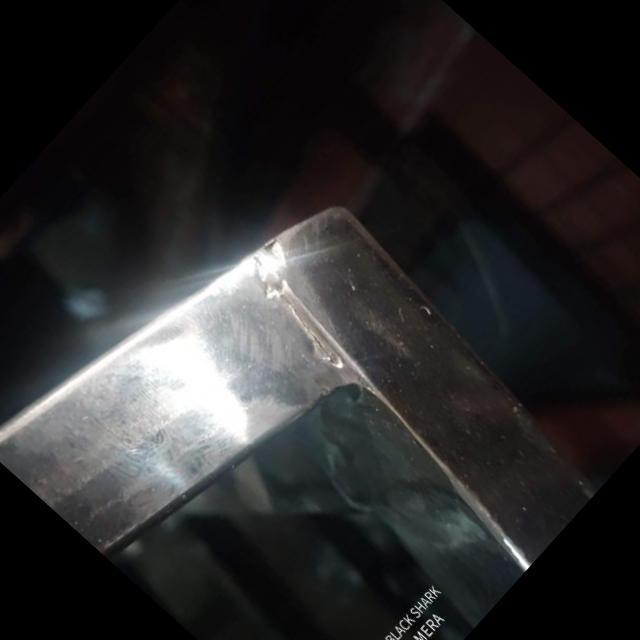defect: (278, 291, 337, 365)
